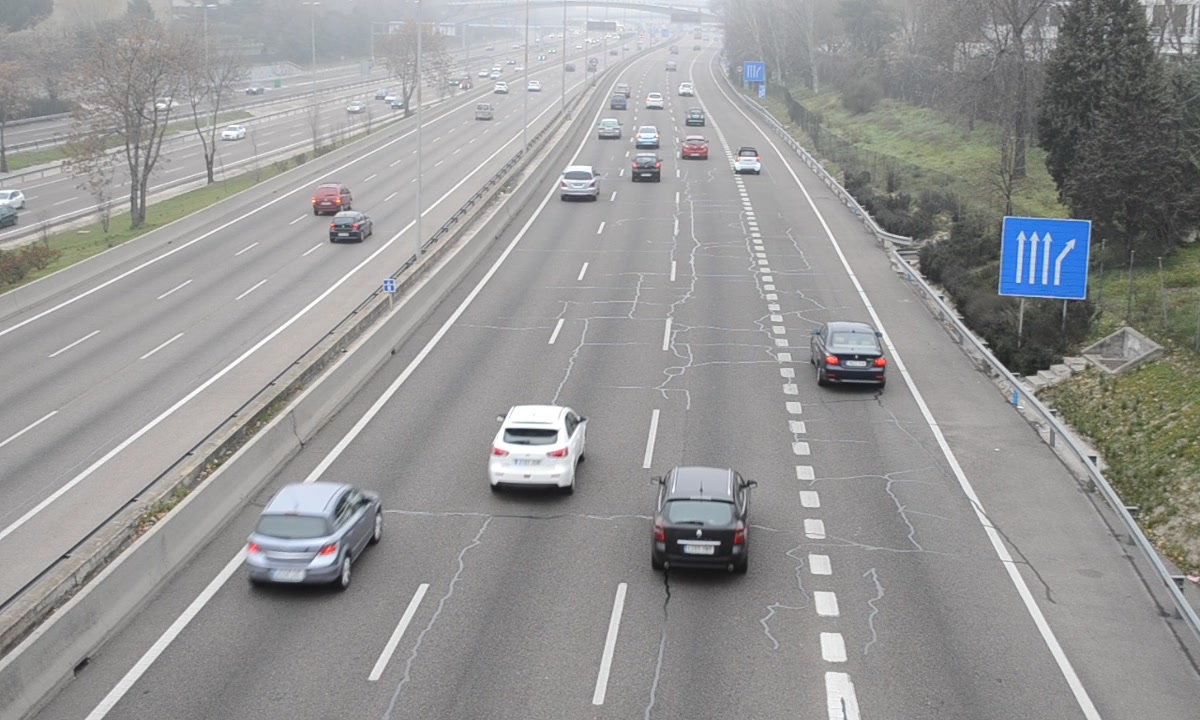car: (244, 484, 382, 589), (649, 466, 750, 573), (490, 406, 588, 493), (811, 321, 891, 393), (559, 166, 600, 202), (632, 152, 662, 183), (733, 145, 762, 175), (682, 136, 710, 161), (635, 125, 660, 151), (596, 118, 623, 141)
